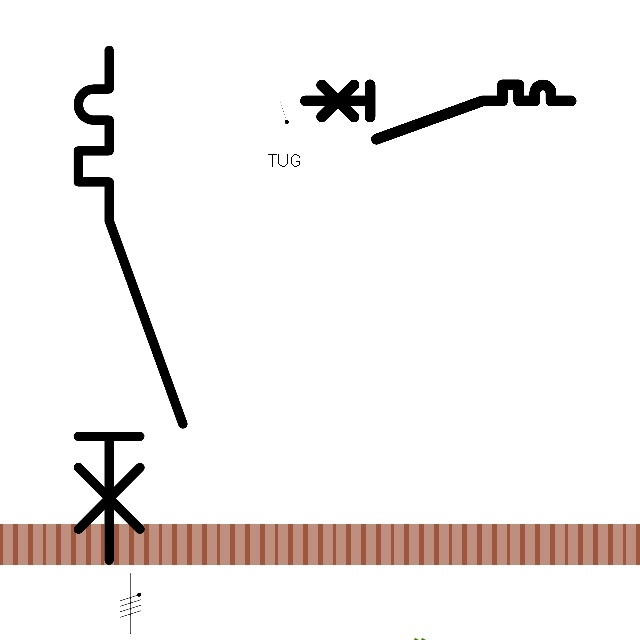interruptor_termomagnetico: (65, 37, 196, 573), (298, 78, 577, 146)
